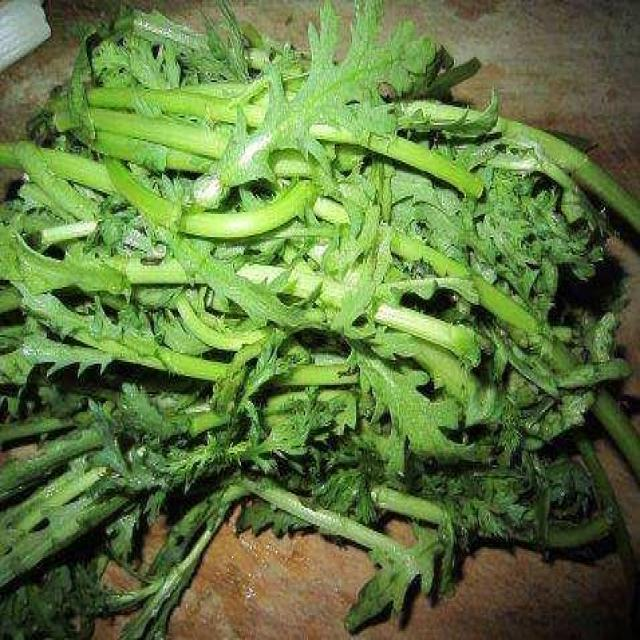-Kitchen waste - vegetable roots and leaves-: (0, 0, 640, 638)
